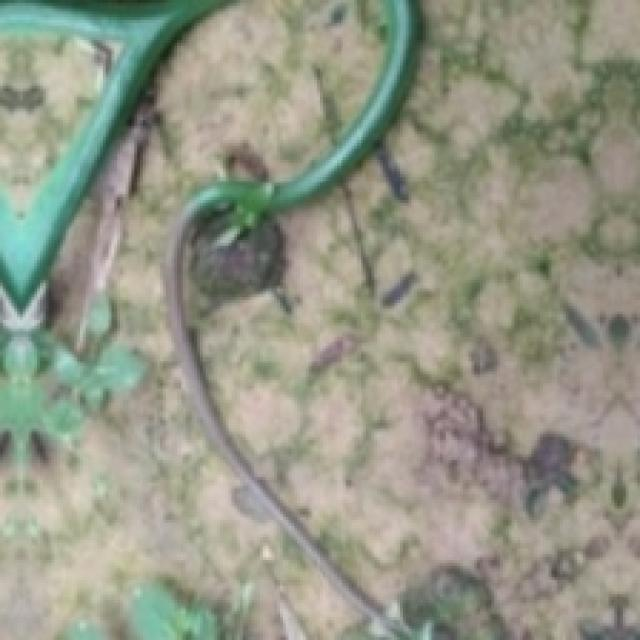red-tailed green ratsnake: (0, 0, 227, 313), (189, 0, 421, 226)
